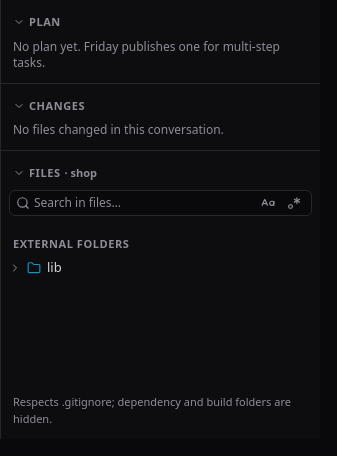
Scenario: external folders in the side panel › lists them under the project files and browses them by absolute path
Expected: the list item "External folders" is shown, [13,236,129,250]
Click the button titled "/srv/lib" at [15, 268], box [5,256,316,280]
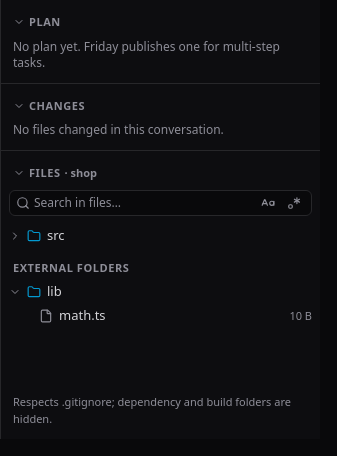
Expected: the text "math.ts" is shown, [59,306,106,326]
